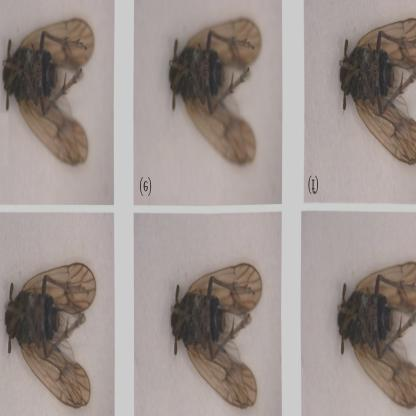brown-planthopper: (166, 14, 266, 168), (168, 258, 265, 410), (1, 14, 95, 170), (6, 254, 94, 409), (336, 246, 416, 416), (338, 12, 416, 166)
